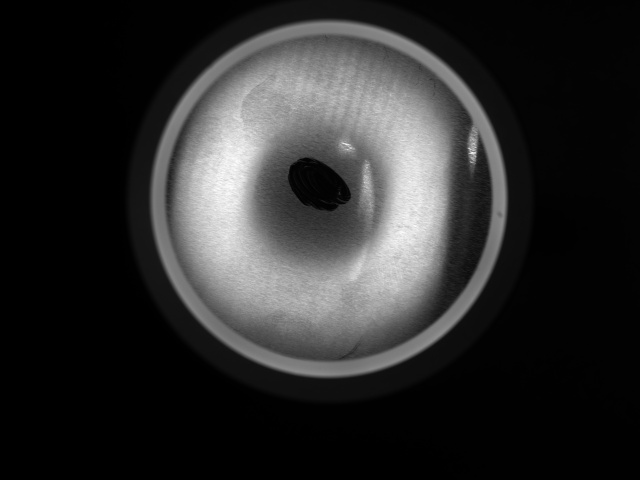zang_wu: (289, 158, 352, 212)
